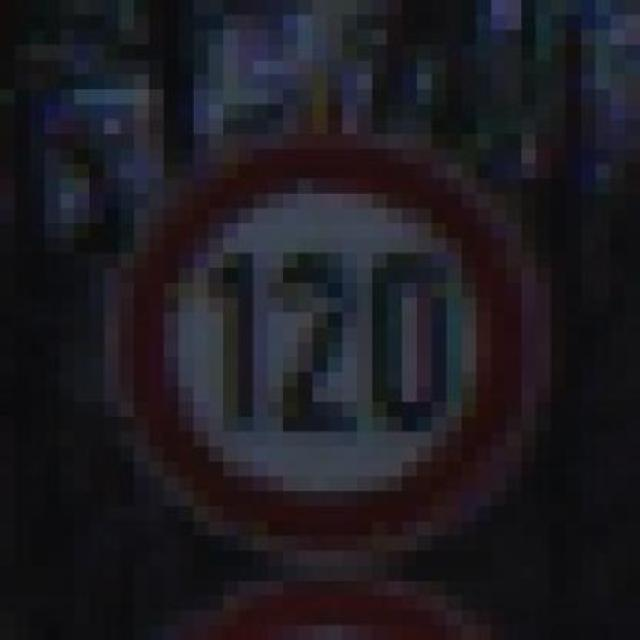forb_speed_over_120: (122, 140, 536, 558)
